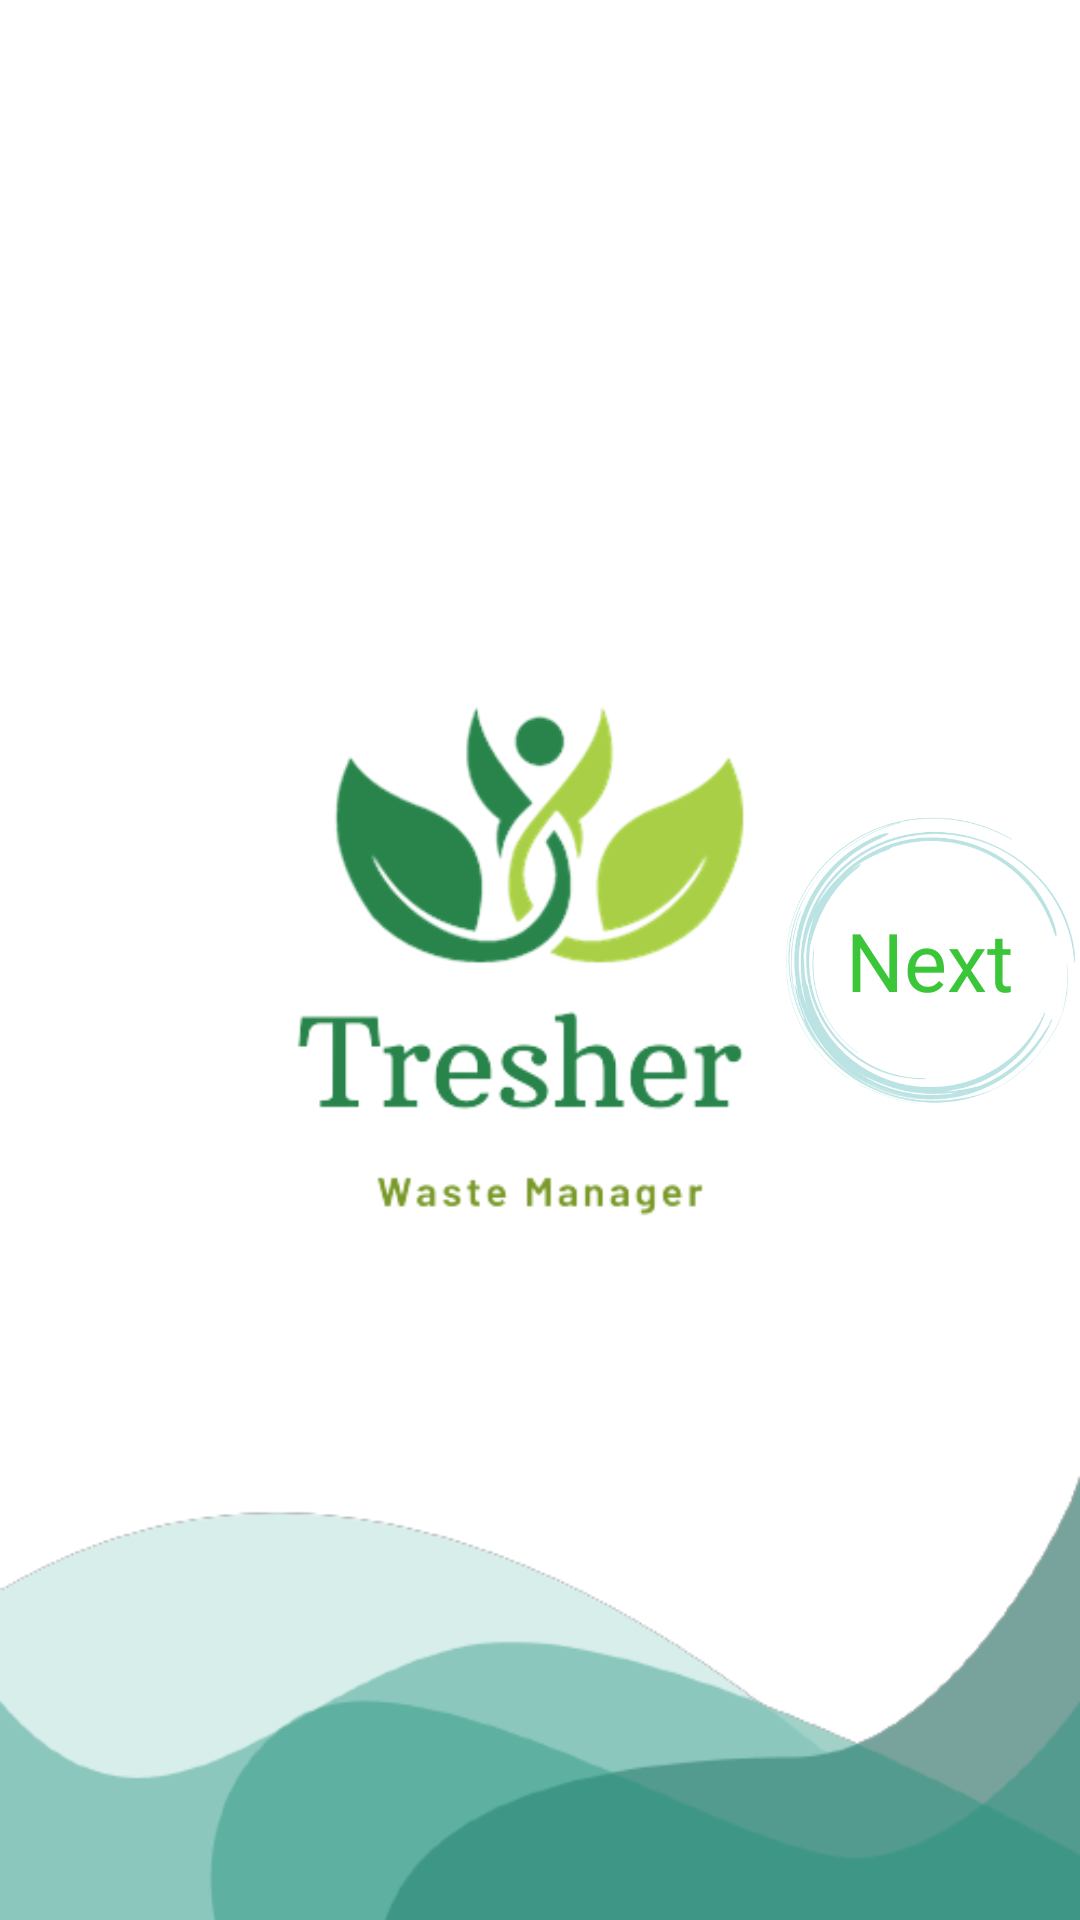

Icon bounding boxes for this 1080 × 1920 phone screenshot, format (x1, y1, x2, y2):
circle: (787, 818, 1075, 1103)
